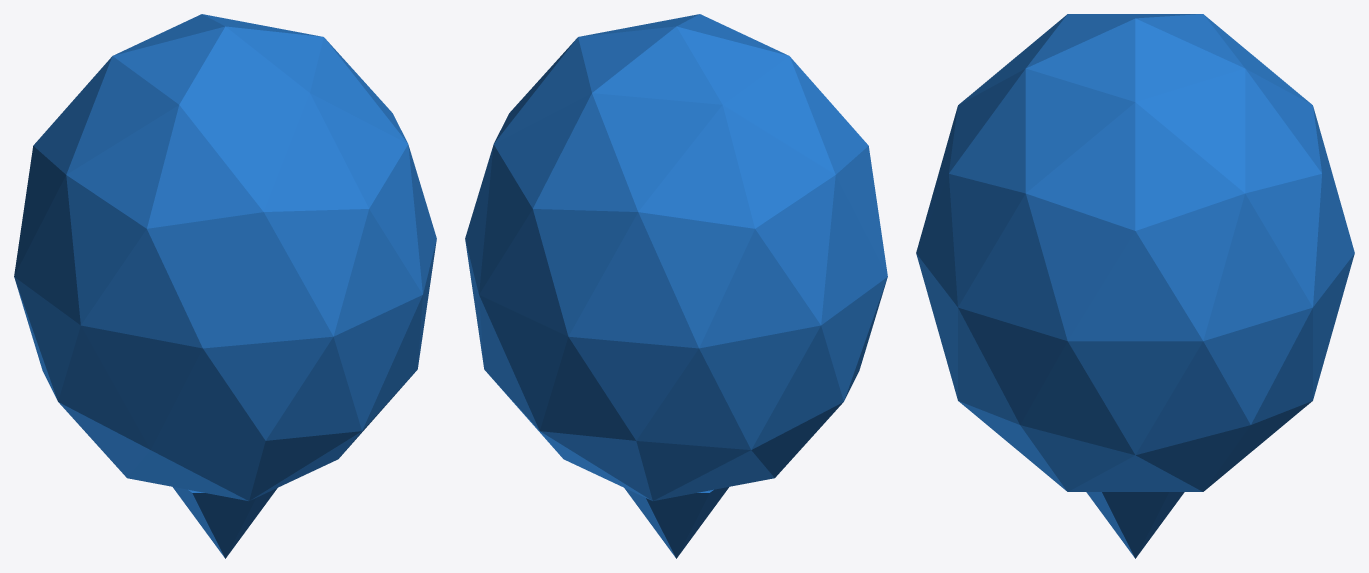
File: balloon_blue.glb
The picture shows the model from 3 angles, left to right: view 1: azimuth 30°, elevation 25°; view 2: azimuth 150°, elevation 25°; view 3: azimuth 270°, elevation 25°; orthographic projection.
Visible parts, largest first — view 1: balloon_blue; view 2: balloon_blue; view 3: balloon_blue.
Part boxes in pixels (x1,y1,x2,y2): balloon_blue: (14,14,436,558); balloon_blue: (465,14,887,558); balloon_blue: (916,14,1354,558).
Bounding box in the file's own units: 0.2473 × 0.3534 × 0.26.
